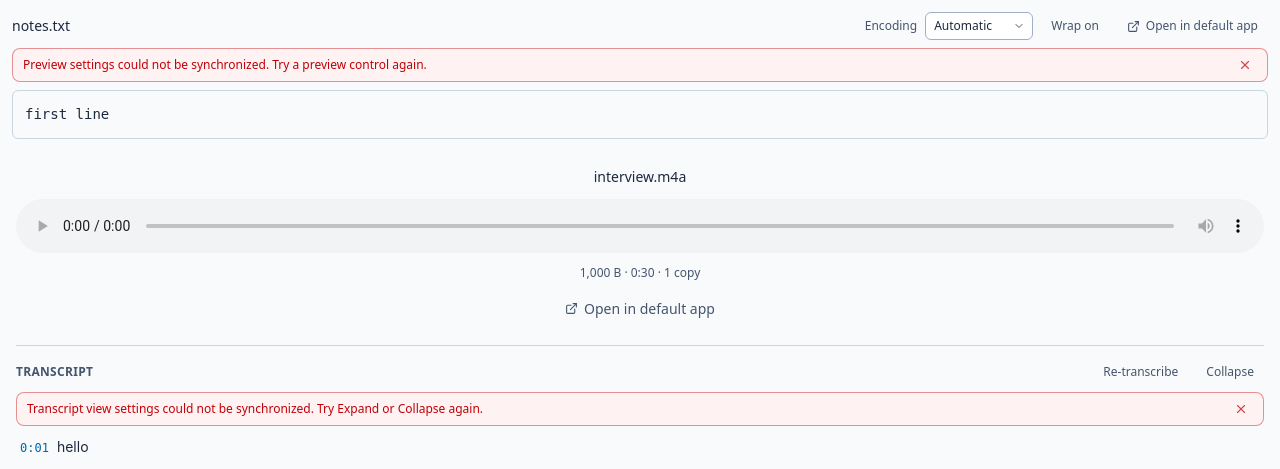
Scenario: retains a failed shared-session listener at each visible owner and retries from a control
The image size is (1280, 469).
Expected: the text "Preview settings could not be synchronized. Try a preview control again." is shown, x1=23 y1=56 x2=427 y2=73
Expected: the text "Transcript view settings could not be synchronized. Try Expand or Collapse again." is shown, x1=27 y1=400 x2=483 y2=417
Step 1. Click the button "Wrap on" → (1075, 26), box x1=1041 y1=12 x2=1109 y2=40
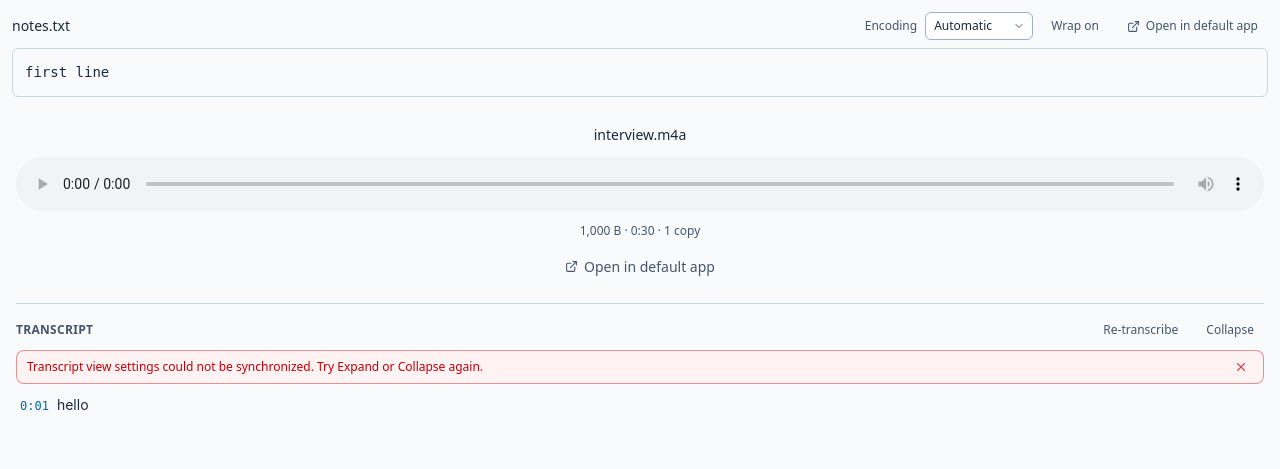
Expected: the text "Transcript view settings could not be synchronized. Try Expand or Collapse again." is shown, x1=27 y1=358 x2=483 y2=375
Expected: the text "Preview settings could not be synchronized. Try a preview control again." is gone
